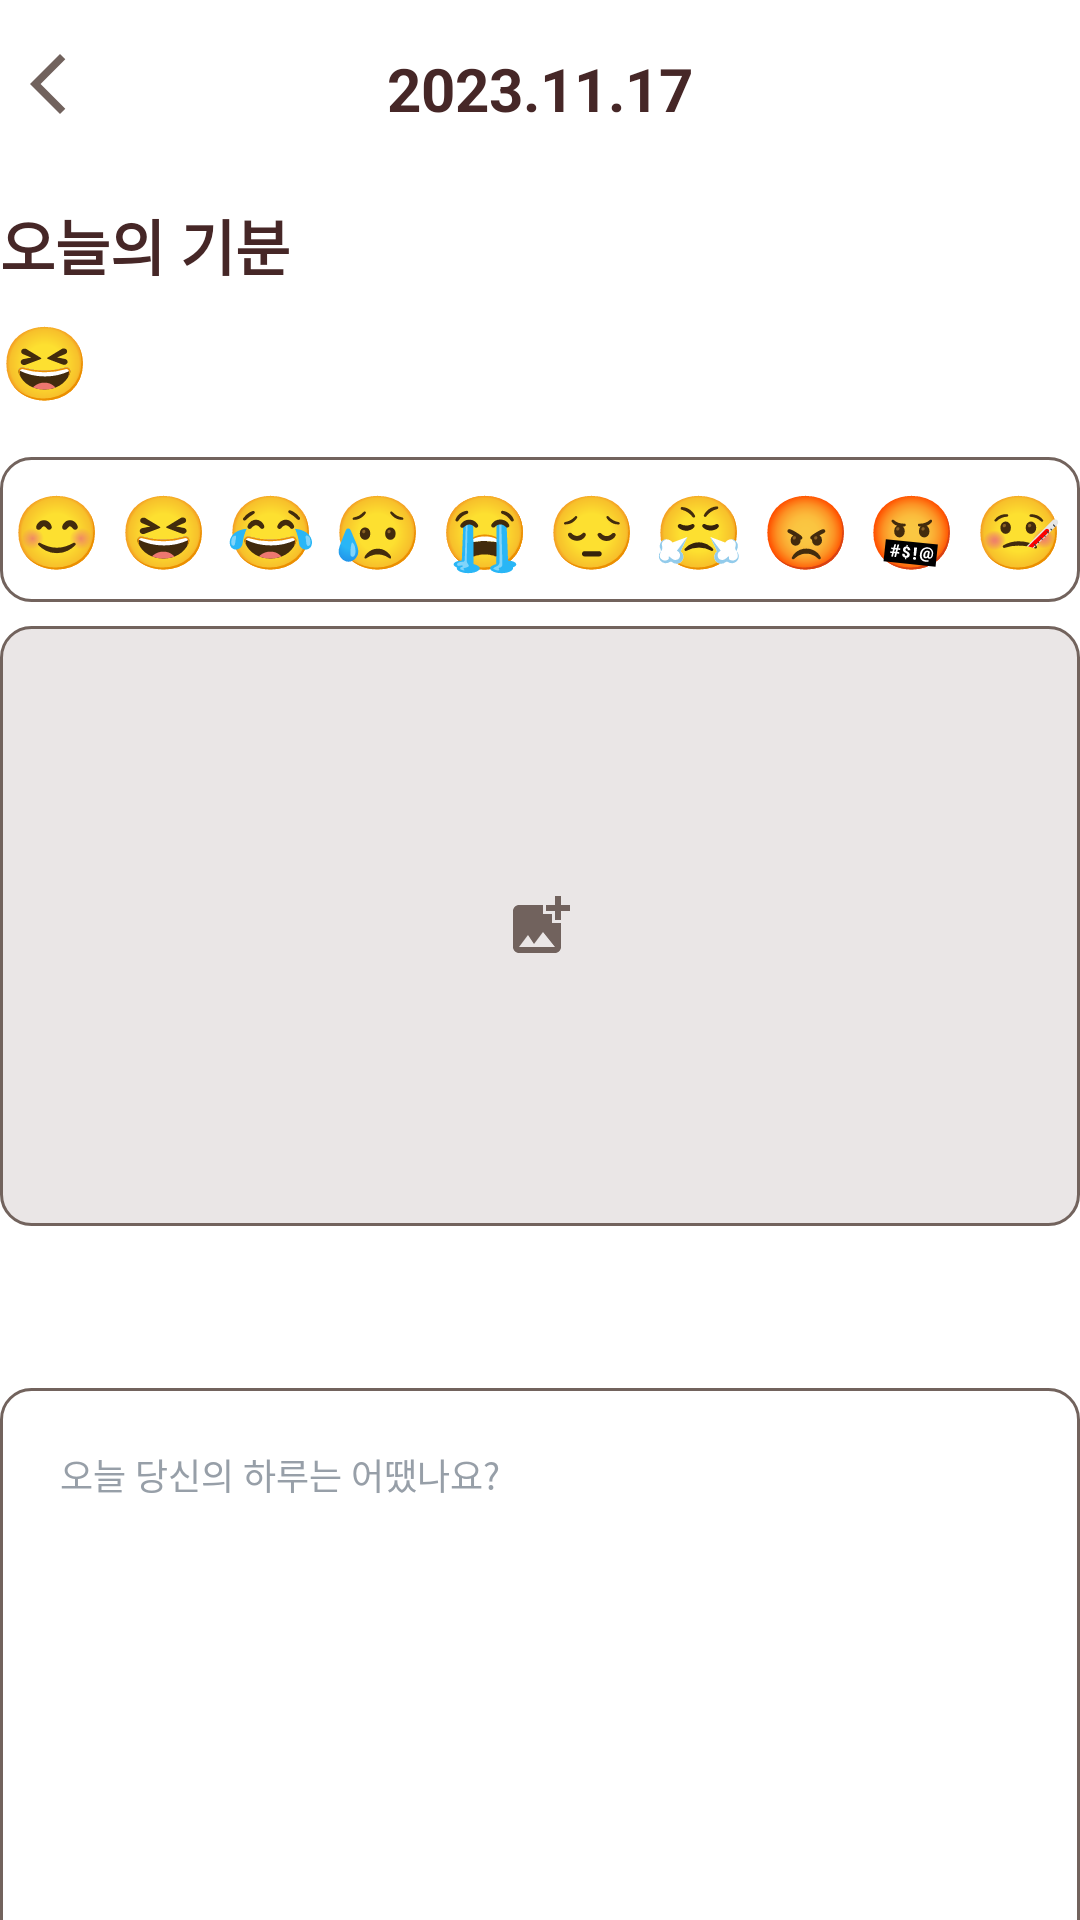

Locate icon controls on the screen. Image size 1080×1920, boxes as {"x1": x1, "y1": y1, "x2": x2, "y2": y2}.
arrow back: {"x1": 30, "y1": 54, "x2": 65, "y2": 114}
